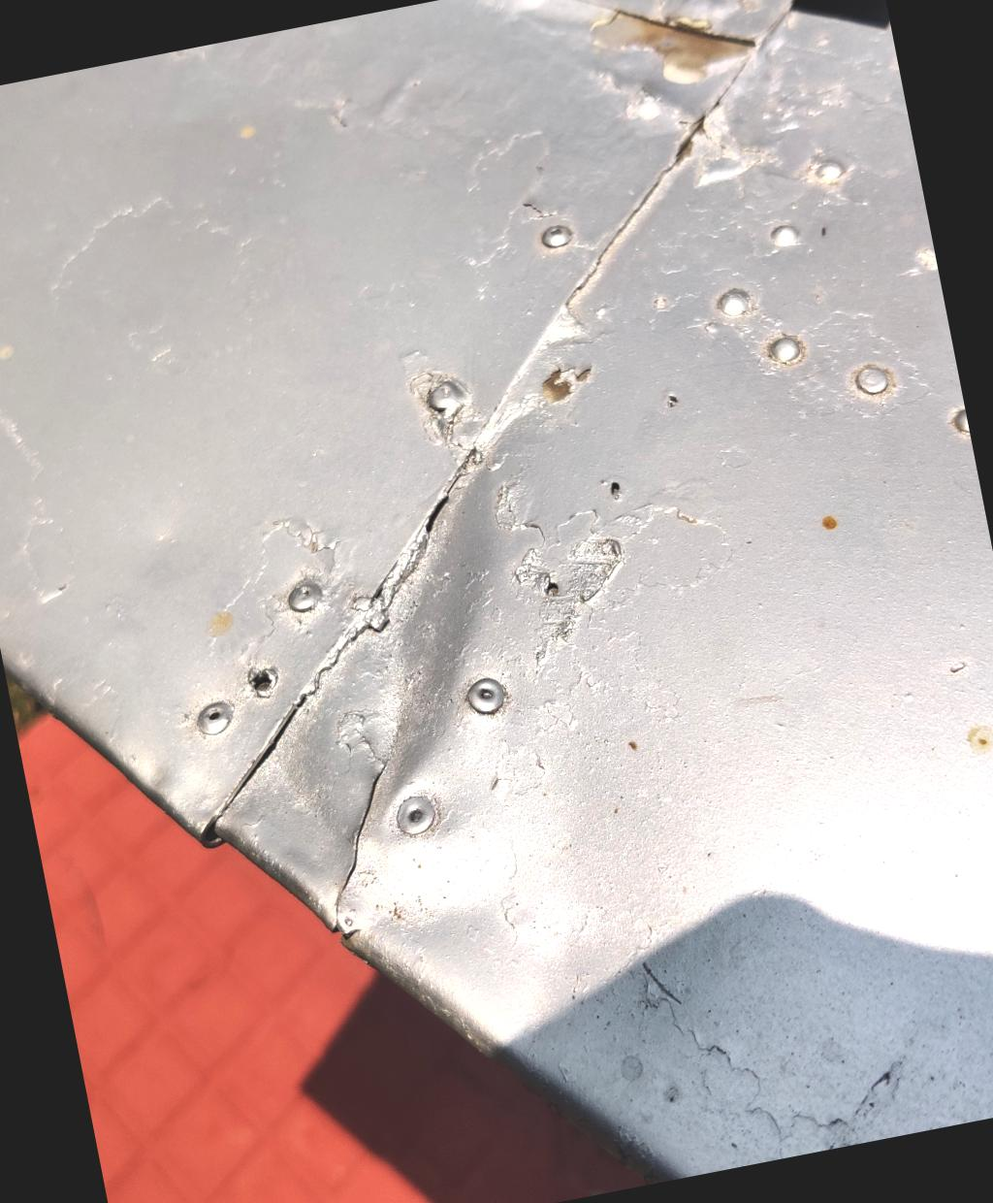corrosion: (564, 0, 782, 127), (521, 320, 614, 423)
crack: (280, 693, 472, 966)
